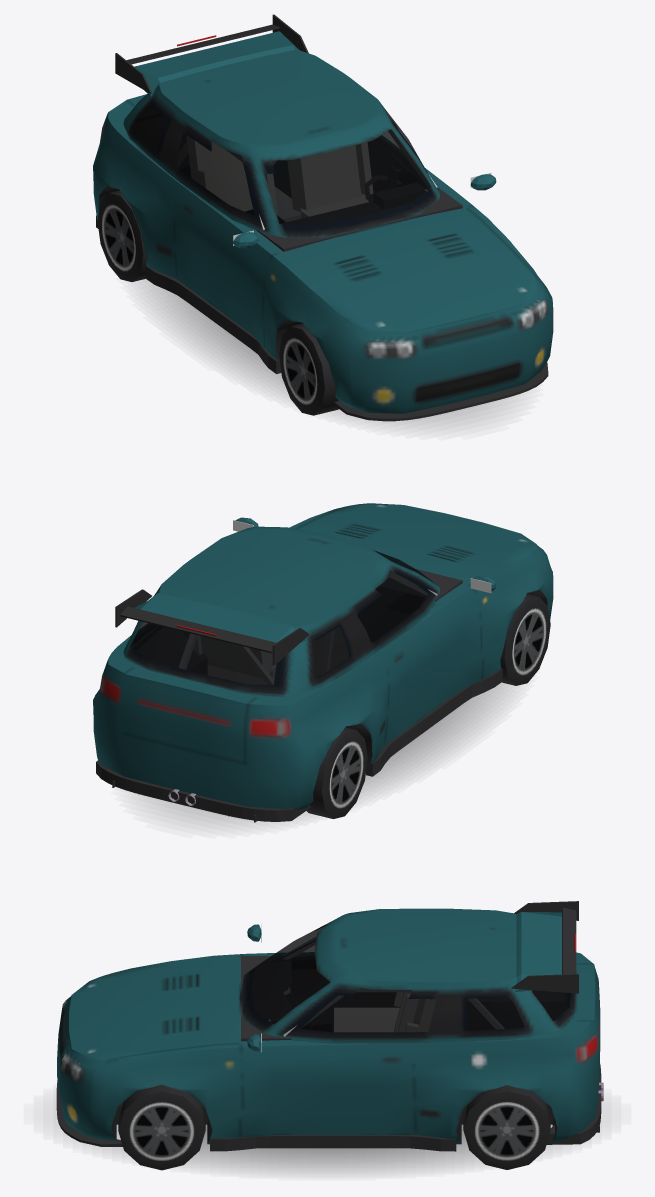
File: scitizia.glb
The picture shows the model from 3 angles, top to bottom: view 1: azimuth 30°, elevation 25°; view 2: azimuth 150°, elevation 25°; view 3: azimuth 270°, elevation 25°; orthographic projection. The views are drawn at different scales.
Parts seen in each view (by area): view 1: Carroceria, Interior, Sombra, Roda_DD, Roda_TD; view 2: Carroceria, Interior, Sombra, Roda_TD, Roda_DD; view 3: Carroceria, Interior, Sombra, Roda_DE, Roda_TE.
Boxes of the visible parts, box(x1,y1,x2,y2) form: Carroceria: box(93, 14, 553, 421); Interior: box(133, 107, 462, 251); Sombra: box(142, 279, 510, 426); Roda_DD: box(279, 323, 338, 415); Roda_TD: box(97, 190, 146, 281); Carroceria: box(93, 503, 553, 822); Interior: box(132, 566, 462, 684); Sombra: box(144, 683, 510, 824); Roda_TD: box(306, 727, 367, 818); Roda_DD: box(500, 594, 550, 685); Carroceria: box(56, 901, 603, 1151); Interior: box(118, 937, 568, 1106); Sombra: box(112, 1124, 552, 1172); Roda_DE: box(118, 1084, 205, 1170); Roda_TE: box(463, 1085, 550, 1169).
Bounding box in the file's own units: 2.3 × 1.41 × 4.45.
Materials: 14 (3 with a texture image).
